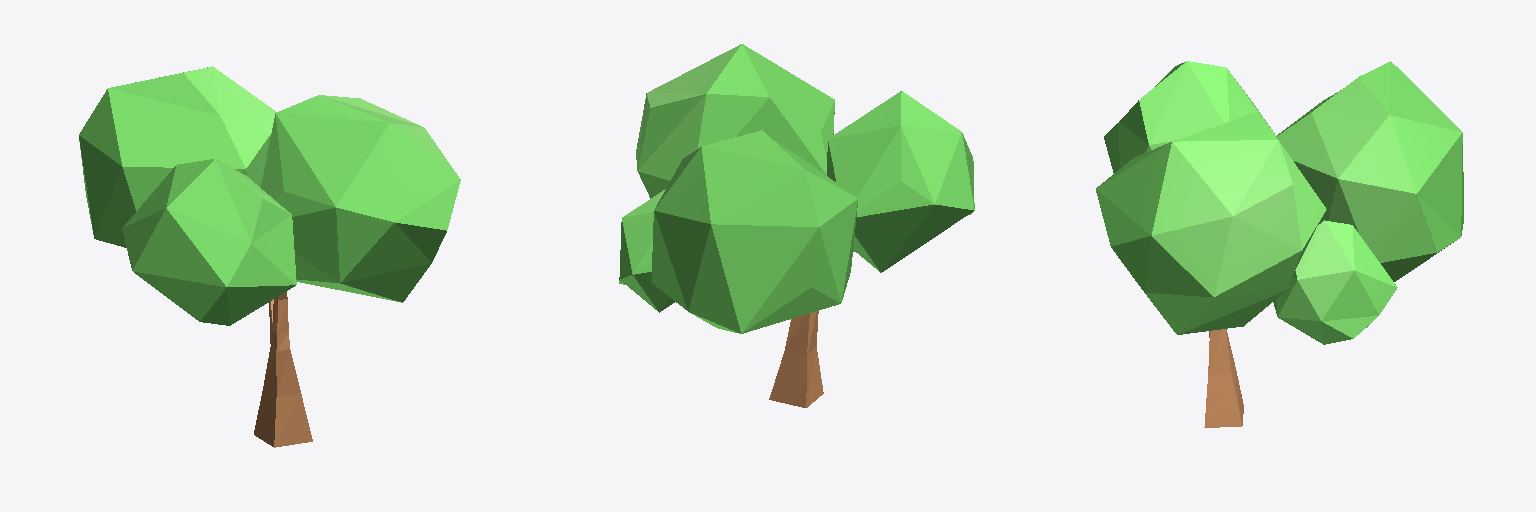
3 renders of one model, left to right at view 1: azimuth 30°, elevation 25°; view 2: azimuth 150°, elevation 25°; view 3: azimuth 270°, elevation 25°, orthographic.
Parts seen in each view (by area): view 1: tree1; view 2: tree1; view 3: tree1.
Part boxes in pixels (left/top/right/bottom): tree1: left=79, top=66, right=460, bottom=447; tree1: left=619, top=44, right=974, bottom=407; tree1: left=1096, top=61, right=1463, bottom=427.
Bounding box in the file's own units: 5.51 × 5.19 × 5.33.
1 materials, 1 textured.